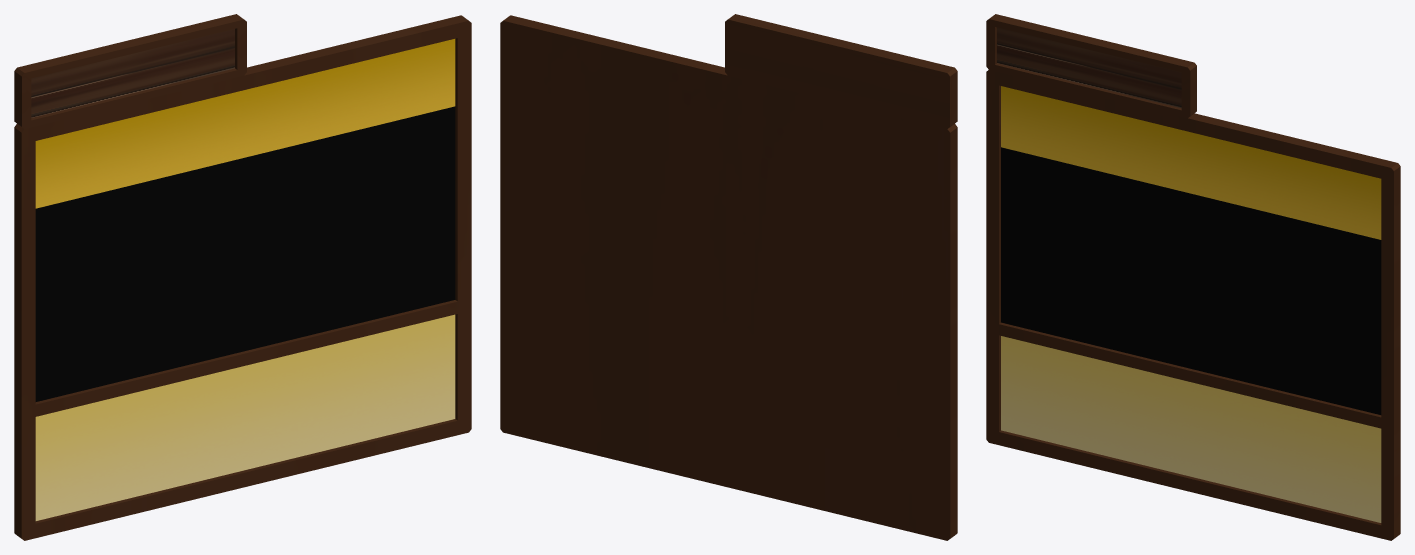
The model's file is SM_LevelSelect_ShoppingSpree.fbx.
3 renders of one model, left to right at view 1: azimuth 30°, elevation 25°; view 2: azimuth 150°, elevation 25°; view 3: azimuth 330°, elevation 25°, orthographic. The views are drawn at different scales.
Parts seen in each view (by area): view 1: ShoppingSpree; view 2: ShoppingSpree; view 3: ShoppingSpree.
Boxes of the visible parts, <box> form: ShoppingSpree: <box>14,14,471,540</box>; ShoppingSpree: <box>500,14,957,540</box>; ShoppingSpree: <box>986,14,1400,540</box>.
Size of the model in its own units: 550 by 546 by 15.91.
